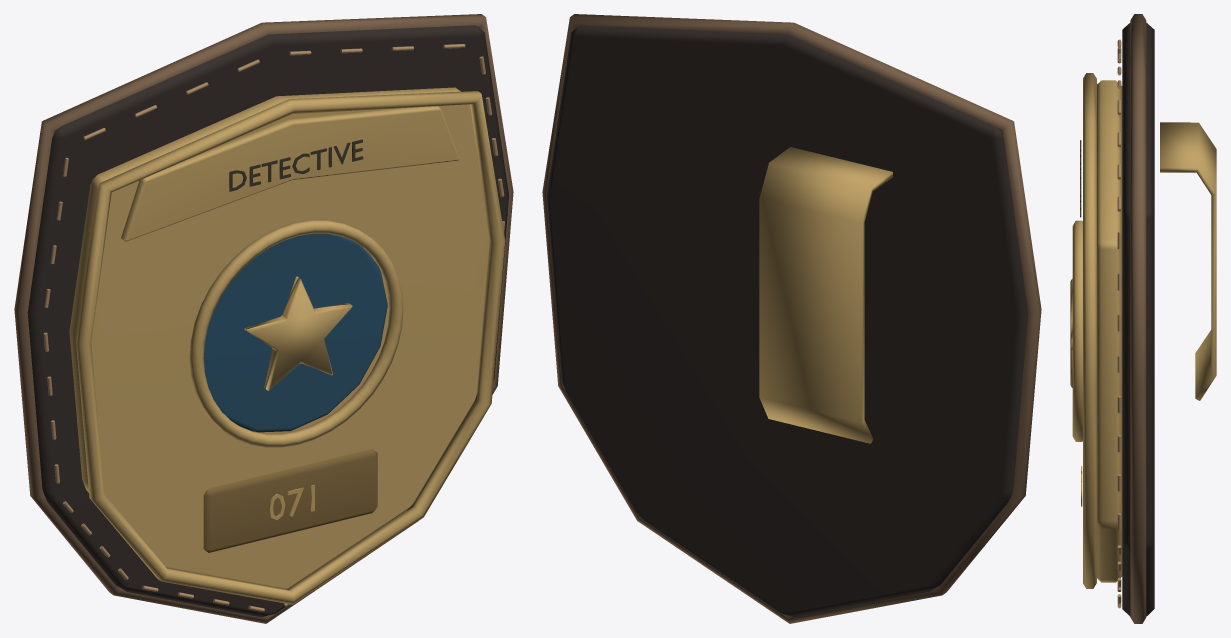
File: P017_detective_badge_rebuilt.glb
3 renders of one model, left to right at view 1: azimuth 30°, elevation 25°; view 2: azimuth 150°, elevation 25°; view 3: azimuth 270°, elevation 25°, orthographic. The views are drawn at different scales.
Visible parts, largest first — view 1: Detective_badge_brass_relief, Badge_dark_leather_holder, Badge_center_midnight_enamel, Badge_holder_cut_edge, Badge_recessed_brass, Holder_sewn_edge_thread, Badge_dark_stamped_letters; view 2: Badge_dark_leather_holder, Detective_badge_brass_relief, Badge_holder_cut_edge; view 3: Detective_badge_brass_relief, Badge_dark_leather_holder, Badge_holder_cut_edge, Holder_sewn_edge_thread.
Boxes of the visible parts, bbox=[...] form: Detective_badge_brass_relief: bbox=[69, 87, 505, 604]; Badge_dark_leather_holder: bbox=[27, 25, 508, 617]; Badge_center_midnight_enamel: bbox=[203, 233, 387, 432]; Badge_holder_cut_edge: bbox=[14, 14, 513, 623]; Badge_recessed_brass: bbox=[203, 449, 377, 552]; Holder_sewn_edge_thread: bbox=[43, 44, 504, 612]; Badge_dark_stamped_letters: bbox=[229, 139, 363, 191]; Badge_dark_leather_holder: bbox=[547, 25, 1028, 617]; Detective_badge_brass_relief: bbox=[759, 147, 892, 443]; Badge_holder_cut_edge: bbox=[542, 14, 1041, 623]; Detective_badge_brass_relief: bbox=[1070, 73, 1216, 588]; Badge_dark_leather_holder: bbox=[1122, 23, 1154, 616]; Badge_holder_cut_edge: bbox=[1130, 14, 1146, 623]; Holder_sewn_edge_thread: bbox=[1117, 39, 1121, 608].
Size of the model in its own units: 0.0966 by 0.1116 by 0.0271.
